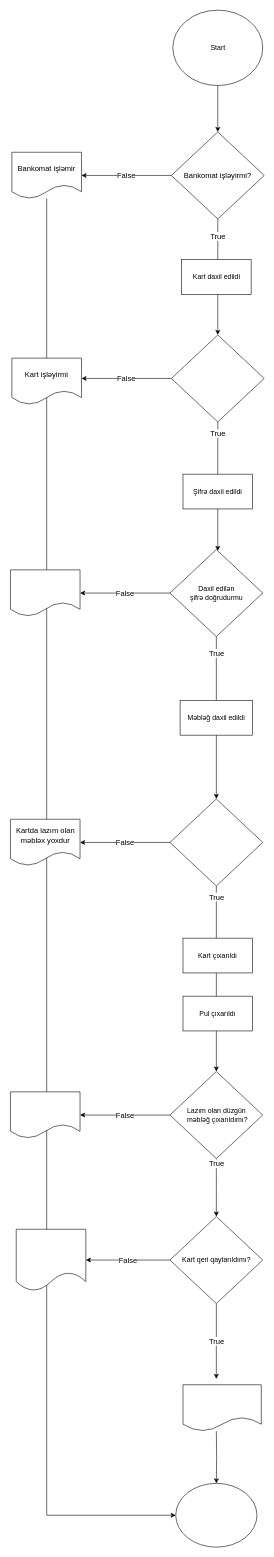
The diagram is 274 pixels wide and 1557 high, and some of its shapes have lost their labels. The centre of each missing label's shape, as x and y in pixels:
"Daxil edilən şifrə yanlışdır" belongs at point 45,592.
"End" belongs at point 216,1515.
"Kart geri qaytarılmadı" belongs at point 51,1260.
"Kart işləyirmi?" belongs at point 217,378.
"Kartda lazım olan məbləğ varmı?" belongs at point 216,842.
"Lazım olan düzgün məbləx çıxarılmadı" belongs at point 45,1114.
"Əməliyyat tamamlandı" belongs at point 221,1407.
